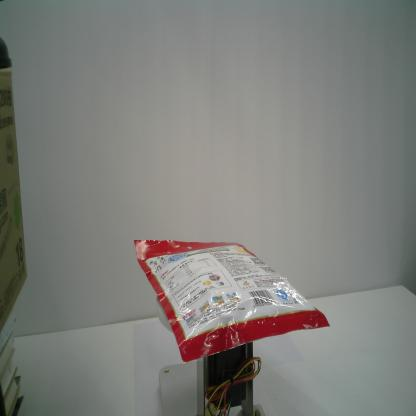Instant Drink: (134, 239, 330, 364)
